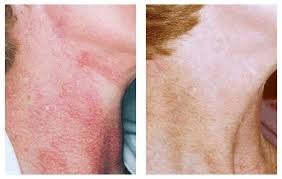Melasma: (22, 0, 80, 52)
